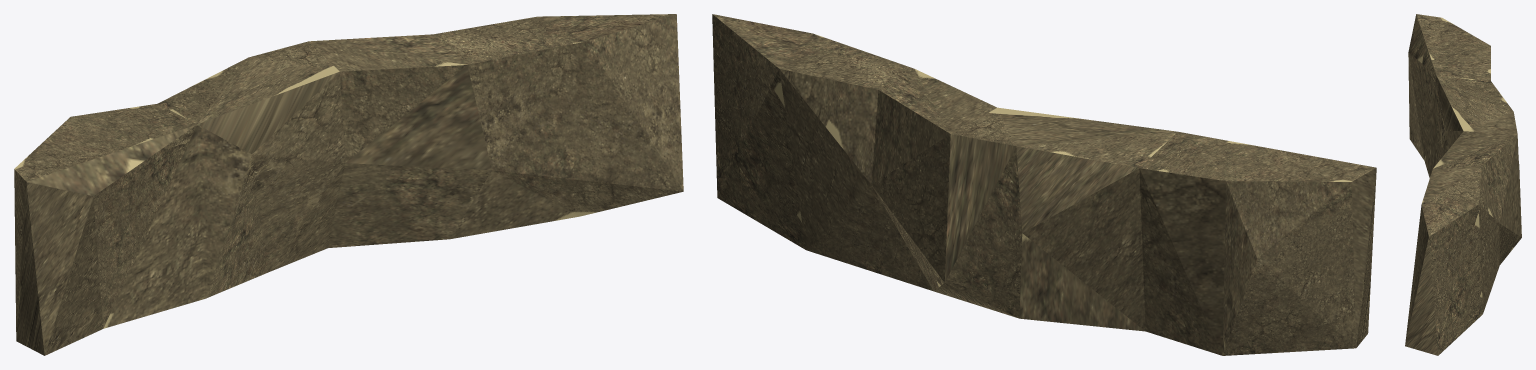
The model's file is CaveWalls3_COL.obj.
The picture shows the model from 3 angles, left to right: view 1: azimuth 30°, elevation 25°; view 2: azimuth 150°, elevation 25°; view 3: azimuth 270°, elevation 25°; orthographic projection. The views are drawn at different scales.
Parts seen in each view (by area): view 1: CaveWalls3.005; view 2: CaveWalls3.005; view 3: CaveWalls3.005.
Part boxes in pixels (x1,y1,x2,y2): CaveWalls3.005: (14, 14, 683, 355); CaveWalls3.005: (712, 14, 1376, 355); CaveWalls3.005: (1405, 14, 1521, 355).
Size of the model in its own units: 128 by 33.26 by 28.36.
Materials: 1 (1 with a texture image).
